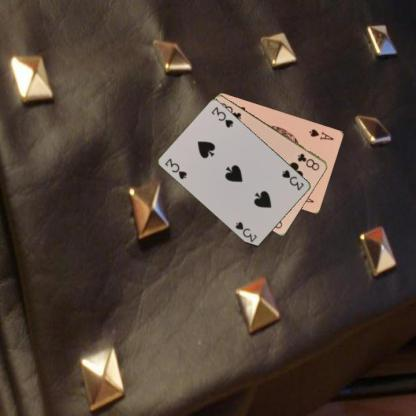3s: (280, 167, 305, 192), (162, 156, 188, 180)
8c: (295, 150, 321, 172)
As: (306, 126, 335, 141)
